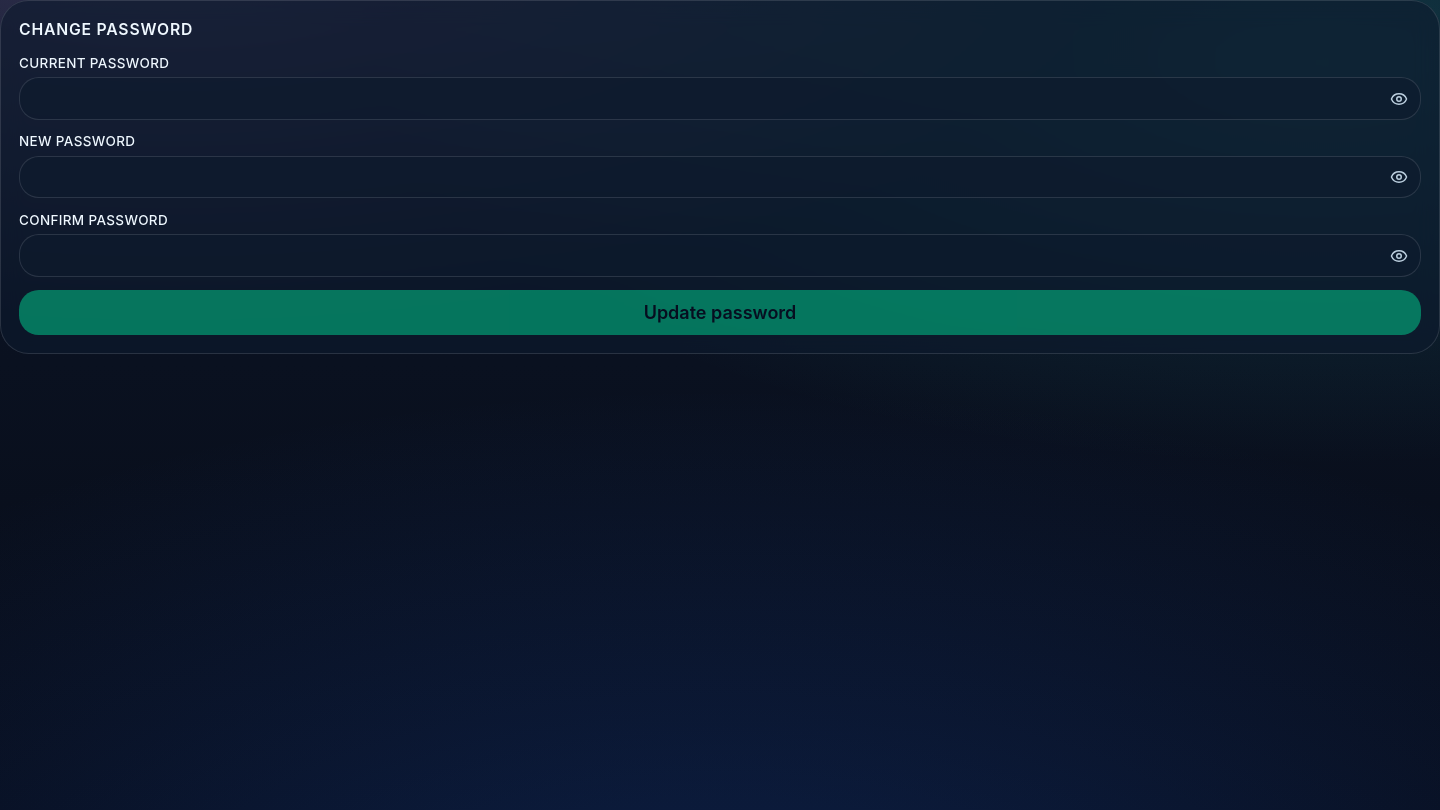
ChangePasswordSection › rejects a mismatched confirmation without hitting Supabase
Type "oldpassword" into the password field below "Current password".
click(720, 99); type("oldpassword")  # box [19,78,1421,120]
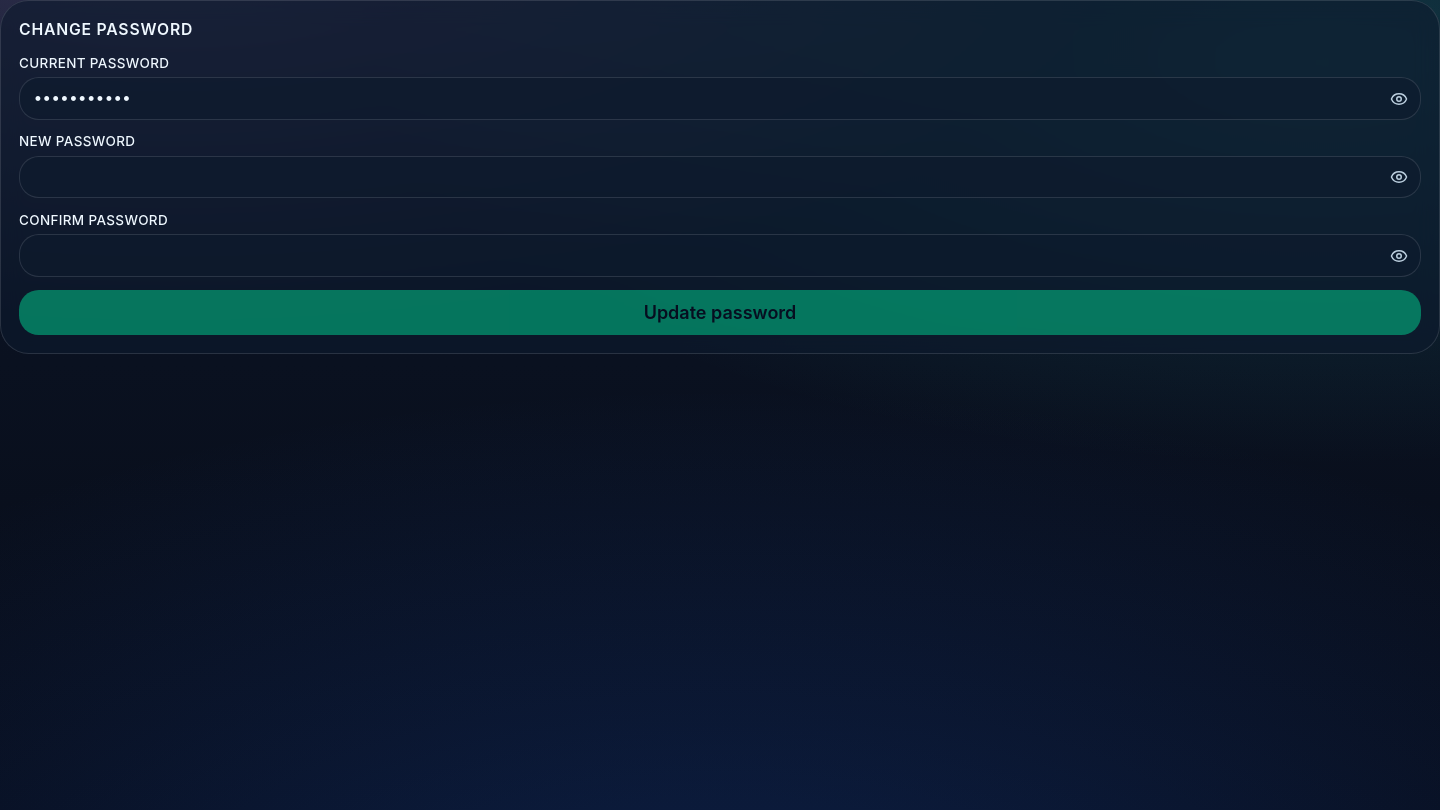
Type "newpassword1" into the password field below "New password".
click(720, 177); type("newpassword1")  # box [19,156,1421,198]
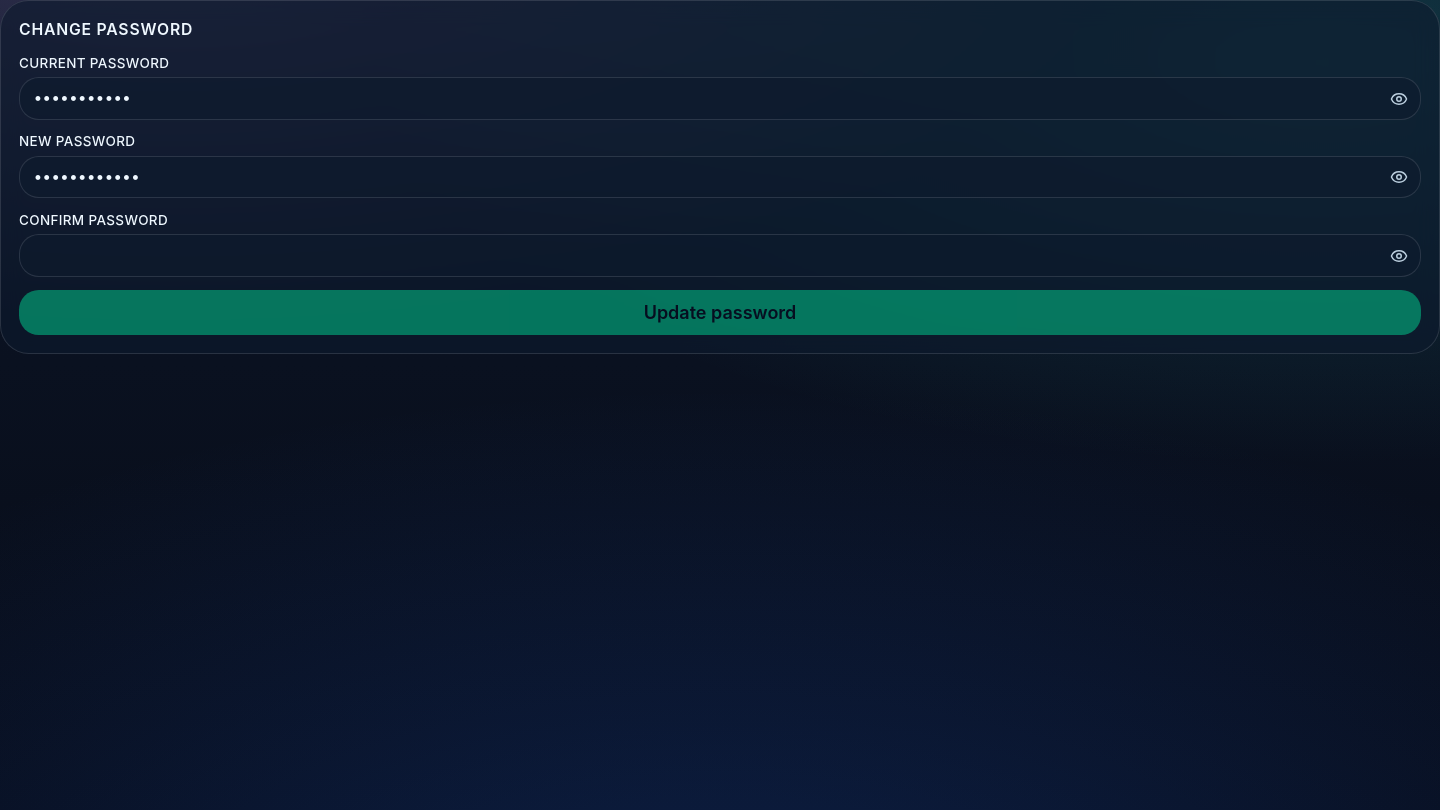
Type "different2" into the password field below "Confirm password".
click(720, 256); type("different2")  # box [19,234,1421,277]
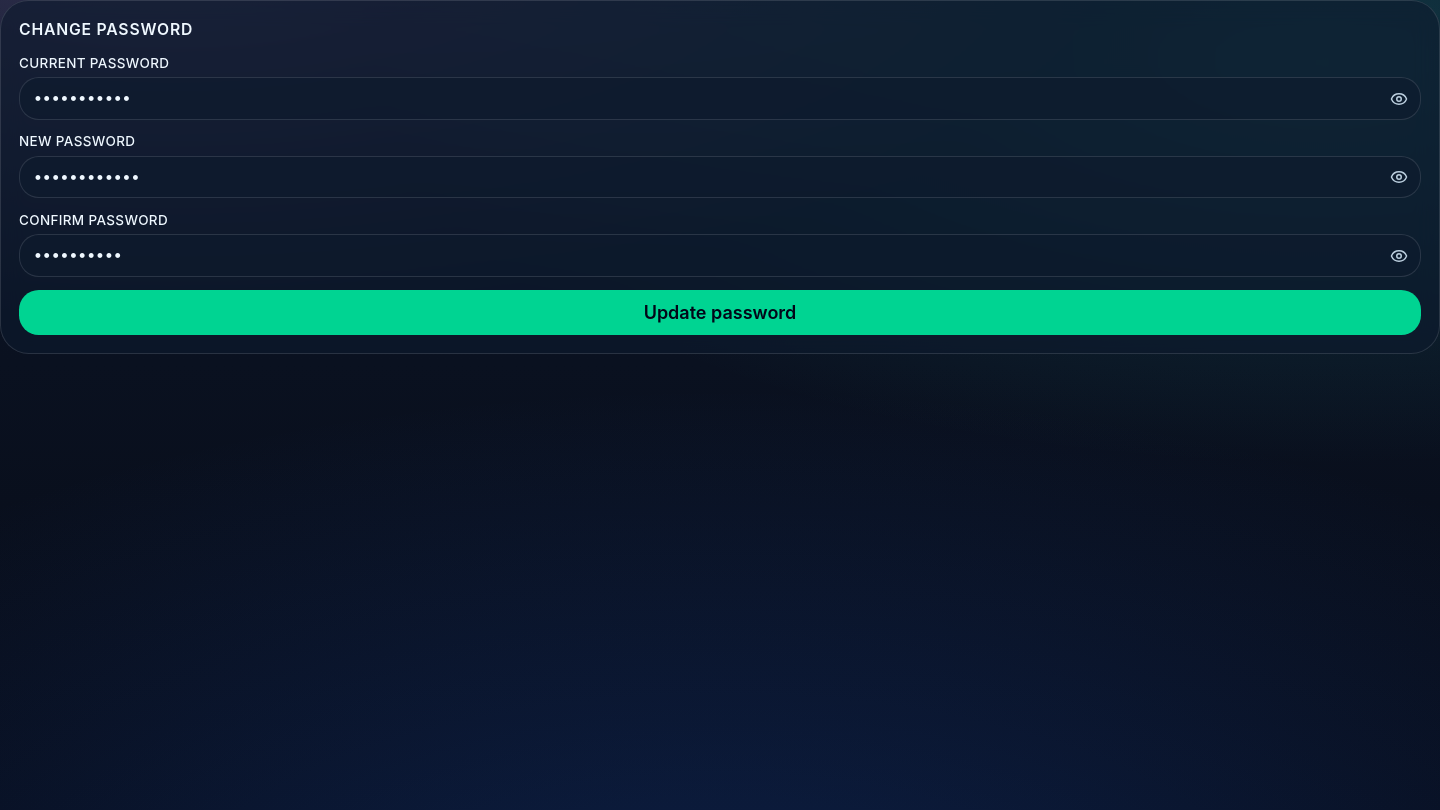
Click the button "Update password".
click(720, 313)  # box [19,290,1421,336]
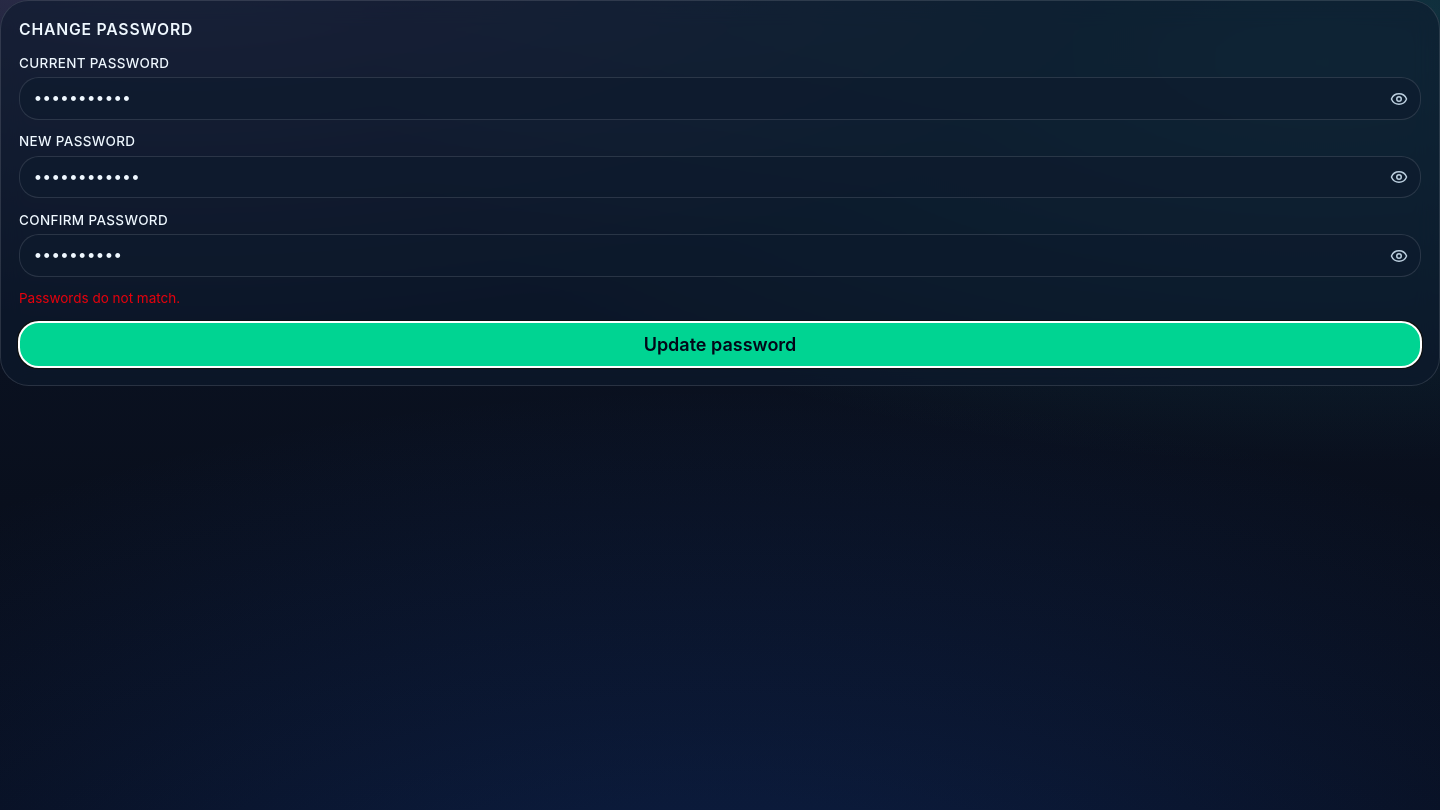
Expected: the text "Passwords do not match." is shown, [19,290,180,306]
